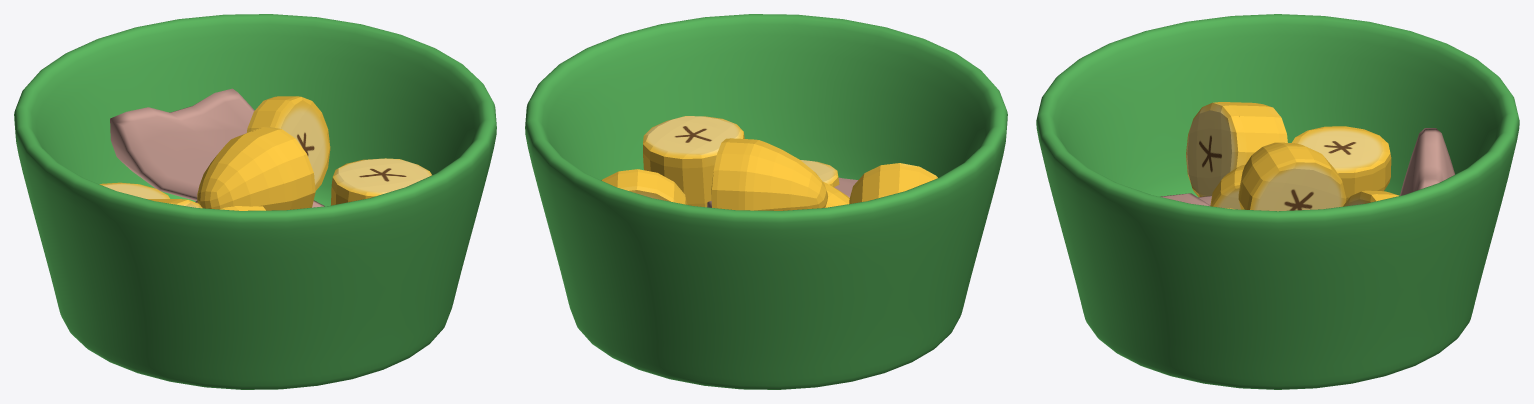
File: BolPlatanoManzana.fbx
The picture shows the model from 3 angles, left to right: view 1: azimuth 30°, elevation 25°; view 2: azimuth 150°, elevation 25°; view 3: azimuth 270°, elevation 25°; orthographic projection.
Visible parts, largest first — view 1: Bol; view 2: Bol; view 3: Bol.
Part boxes in pixels (box(x1,y1,x2,y2)): Bol: box(14, 14, 496, 389); Bol: box(525, 14, 1007, 389); Bol: box(1036, 14, 1519, 389).
Size of the model in its own units: 4.12 by 1.84 by 4.12.
